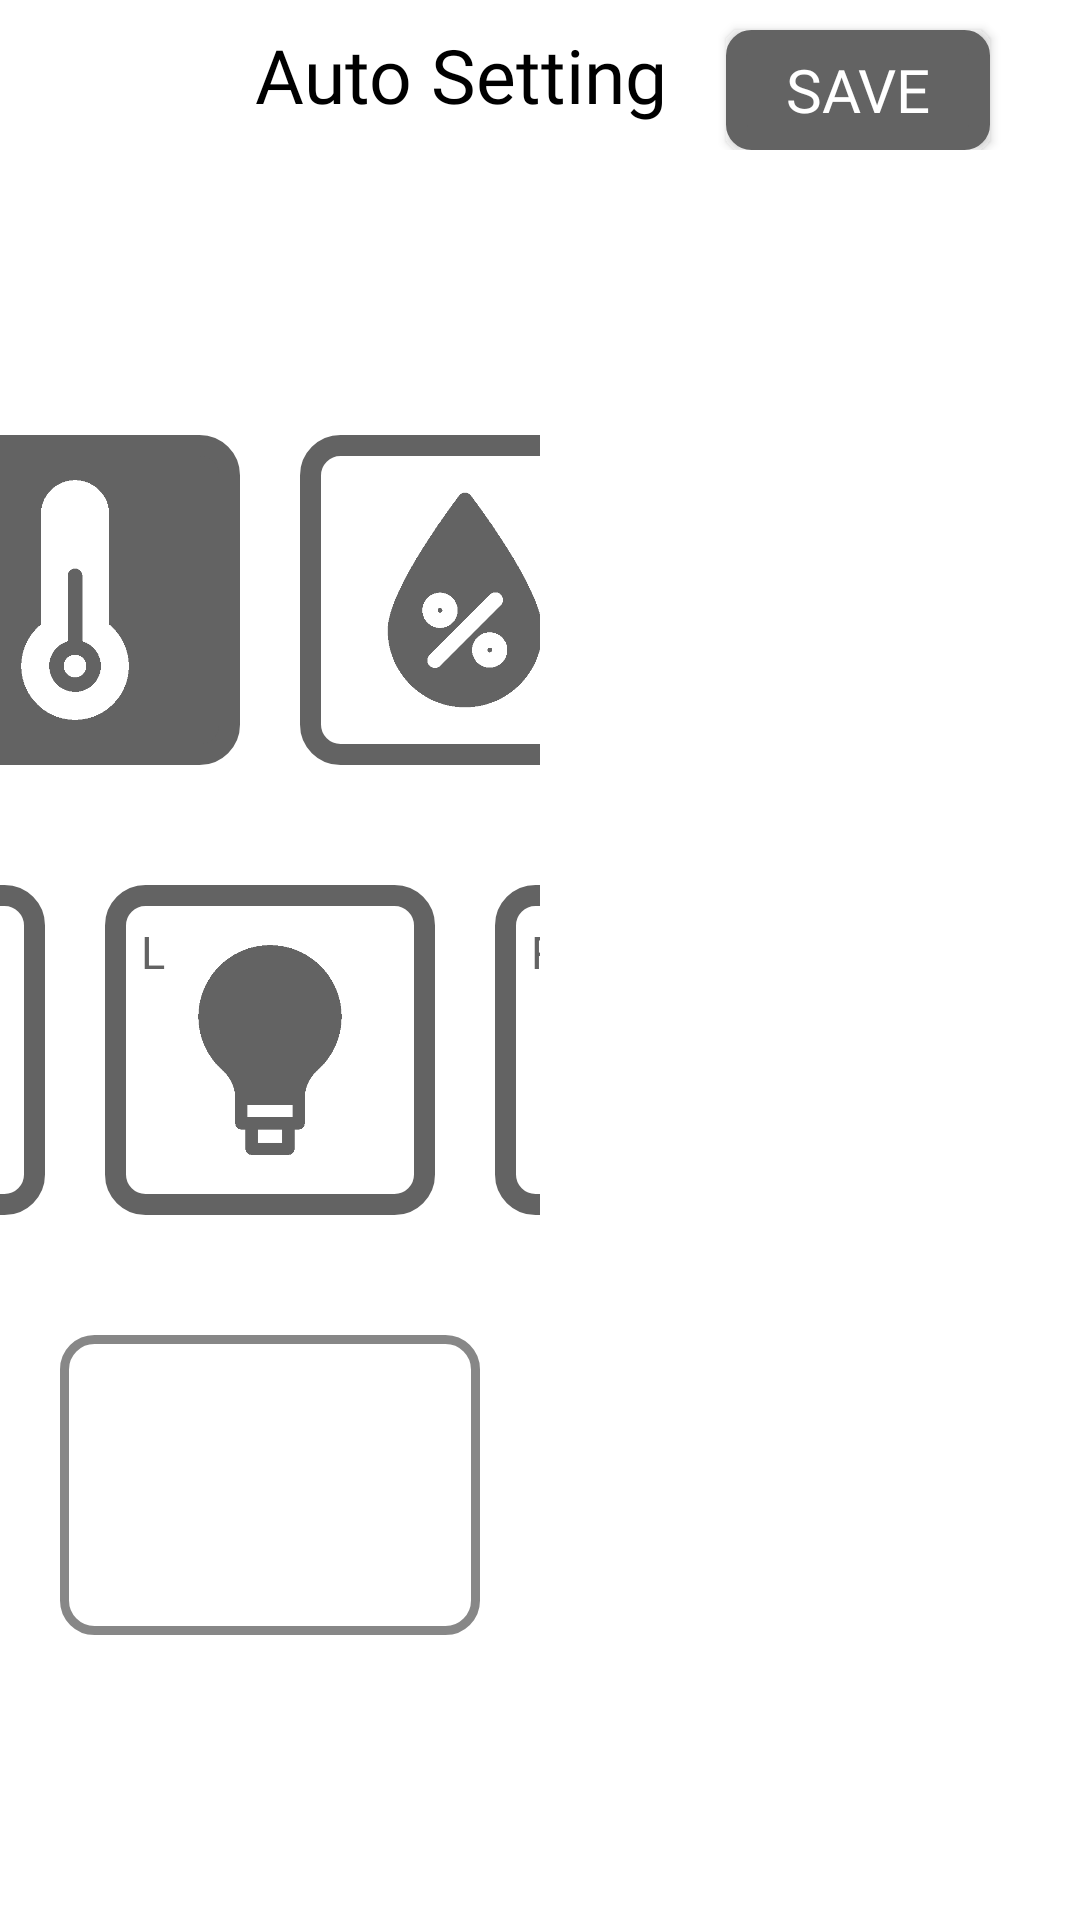

Named icons in this screenshot (1080*1920) and their bounding boxes, (x1, y1, x2, y2):
setting led: (198, 945, 342, 1155)
